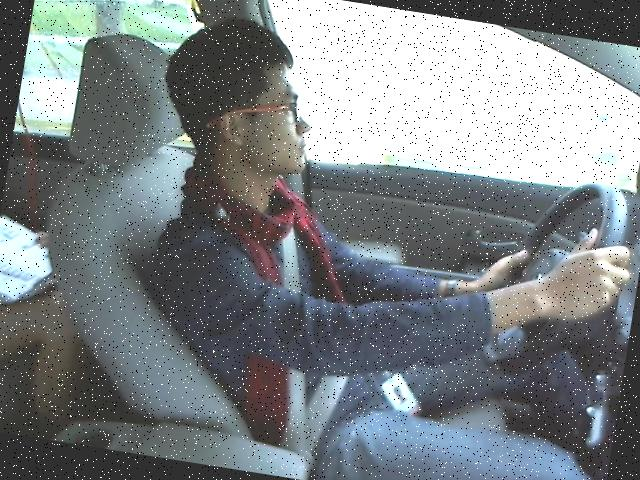c0 - Safe Driving: (119, 10, 639, 427)
